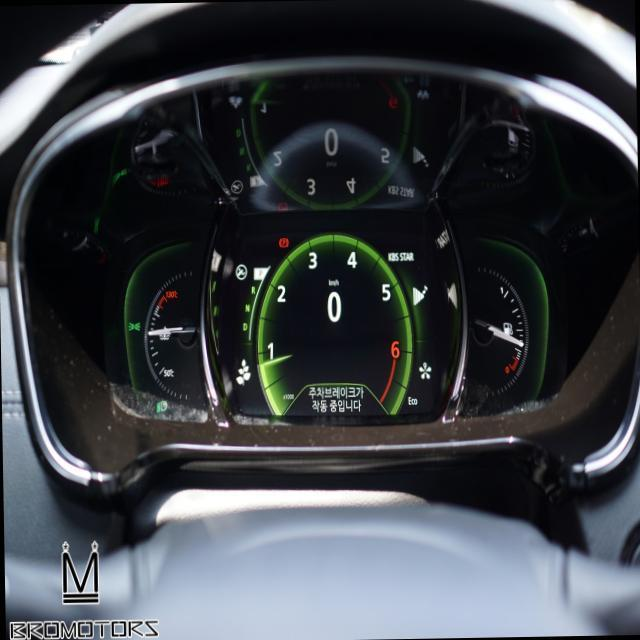Low beam: (154, 399, 167, 413)
SideLamp: (126, 320, 140, 331)
